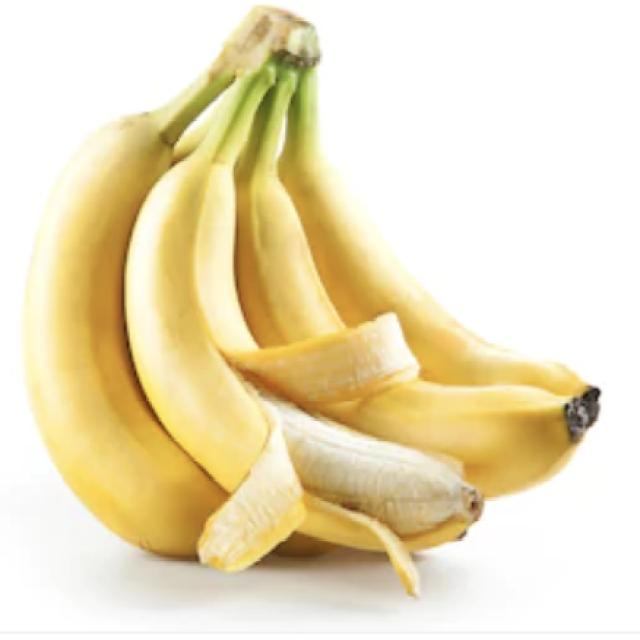banana: (24, 10, 286, 556), (280, 70, 590, 396), (126, 65, 274, 490), (318, 379, 591, 496), (226, 314, 419, 404)
